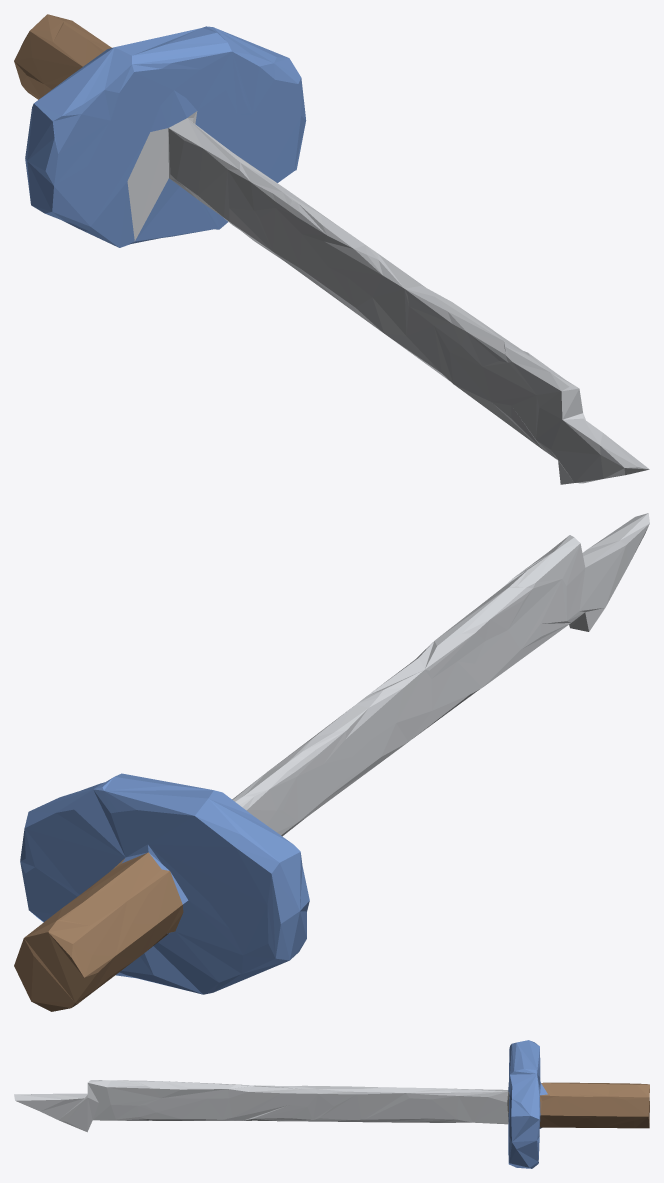
The model's file is longsword.glb.
3 renders of one model, top to bottom at view 1: azimuth 30°, elevation 25°; view 2: azimuth 150°, elevation 25°; view 3: azimuth 270°, elevation 25°, orthographic. The views are drawn at different scales.
Visible parts, largest first — view 1: longsword; view 2: longsword; view 3: longsword.
Boxes of the visible parts, bbox=[...] form: longsword: bbox=[14, 14, 649, 484]; longsword: bbox=[14, 513, 649, 1011]; longsword: bbox=[14, 1040, 649, 1168].
Bounding box in the file's own units: 0.3062 × 0.215 × 1.17.
